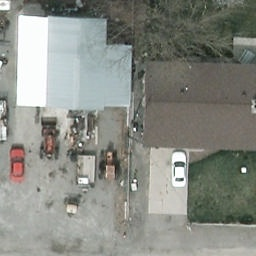car: (169, 151, 190, 190), (8, 149, 28, 183)
